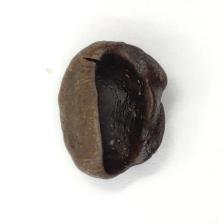NG: (90, 47, 143, 179), (149, 66, 169, 156)
